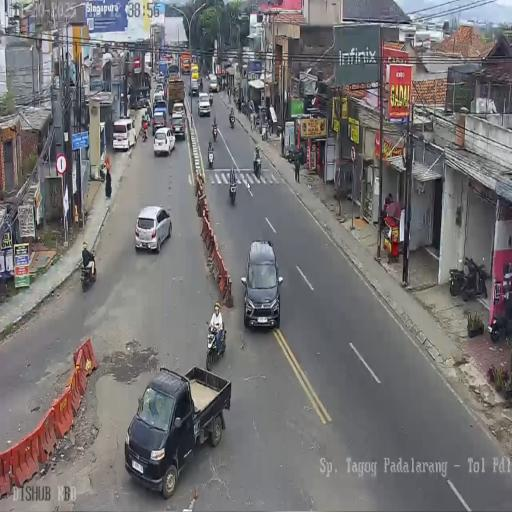3: (125, 363, 233, 499), (167, 76, 185, 117), (181, 52, 192, 74), (168, 64, 180, 80), (144, 52, 152, 76)
car: (244, 240, 284, 330), (134, 204, 172, 254), (112, 117, 138, 152), (153, 126, 177, 158), (171, 110, 186, 140), (133, 85, 151, 109), (152, 104, 167, 127), (198, 92, 210, 116), (153, 84, 165, 104), (207, 73, 218, 93), (190, 63, 200, 83), (156, 74, 166, 88)
truck: (449, 256, 487, 302), (206, 320, 226, 371), (489, 303, 512, 344), (80, 253, 96, 292), (228, 171, 237, 205), (208, 142, 214, 170), (262, 122, 270, 142), (141, 121, 147, 142), (146, 103, 152, 124), (212, 120, 218, 140), (208, 90, 214, 106), (229, 113, 235, 128), (198, 76, 203, 90)
